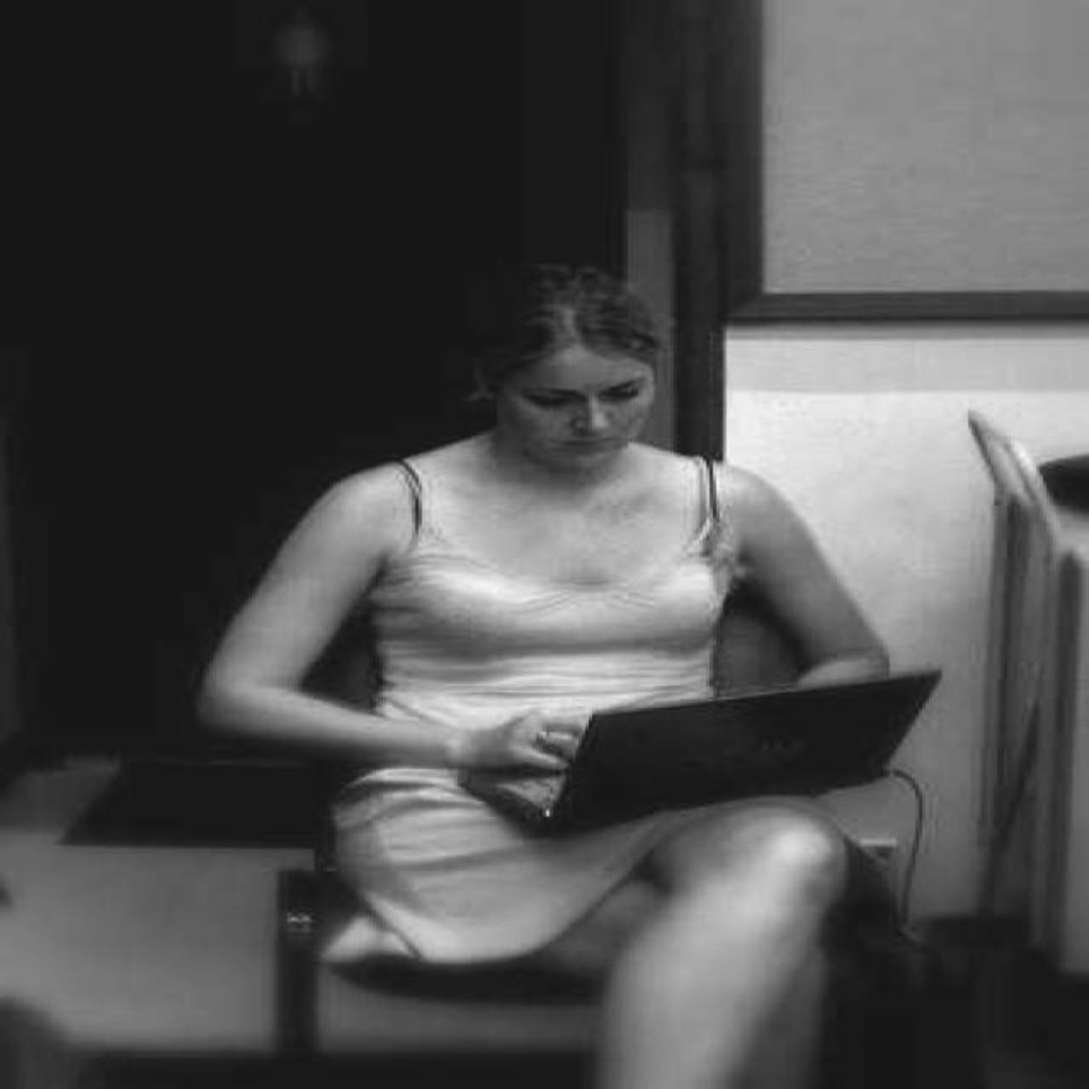laptop: (460, 669, 979, 849)
